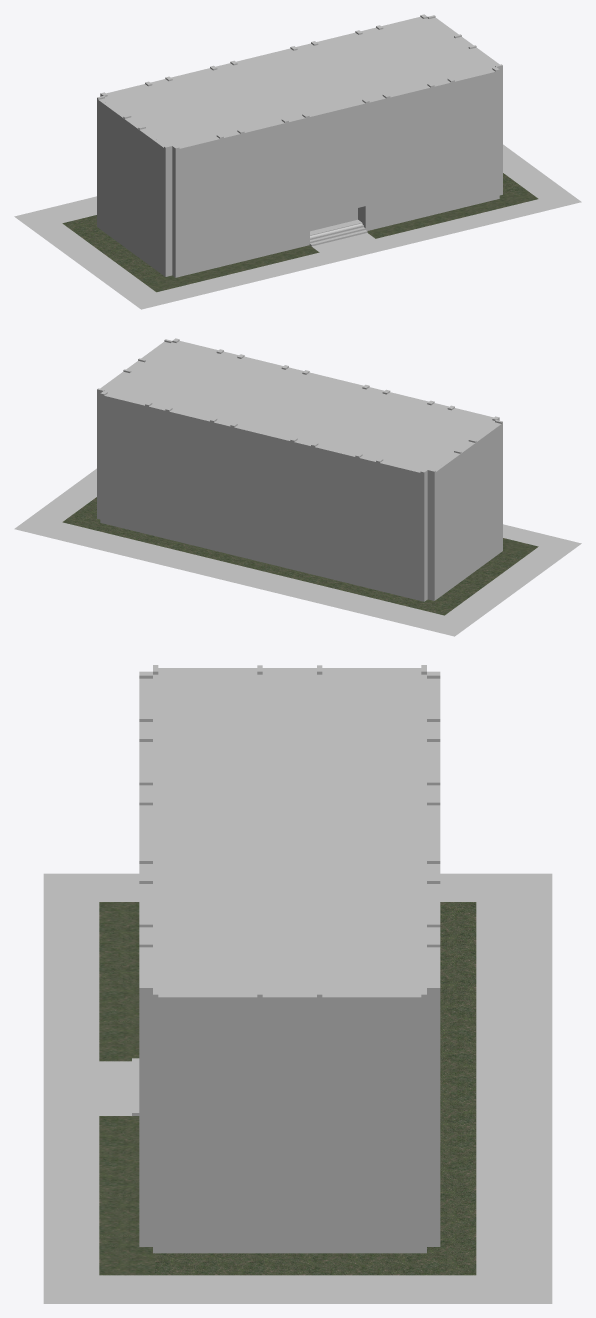
3 renders of one model, top to bottom at view 1: azimuth 30°, elevation 25°; view 2: azimuth 150°, elevation 25°; view 3: azimuth 270°, elevation 25°, orthographic. The views are drawn at different scales.
Visible parts, largest first — view 1: BB-055_LOD, BB-055; view 2: BB-055_LOD, BB-055; view 3: BB-055_LOD, BB-055.
Boxes of the visible parts, left/top/right/bottom form: BB-055_LOD: left=62, top=17, right=538, bottom=292; BB-055: left=14, top=14, right=581, bottom=309; BB-055_LOD: left=62, top=341, right=538, bottom=615; BB-055: left=14, top=338, right=581, bottom=636; BB-055_LOD: left=43, top=668, right=476, bottom=1275; BB-055: left=43, top=665, right=552, bottom=1303.
Size of what is drawn, in the model's own units: 72 by 20.3 by 36.
